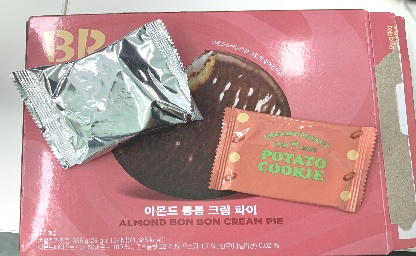br: (8, 17, 205, 172)
pota: (206, 103, 380, 217)
